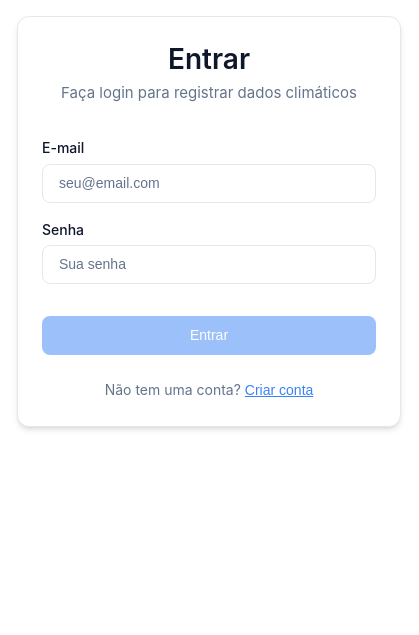
Test: LoginView › should show confirm password mismatch error in register mode
Click the button with class "toggle-link": (279, 390) [245,382,313,398]
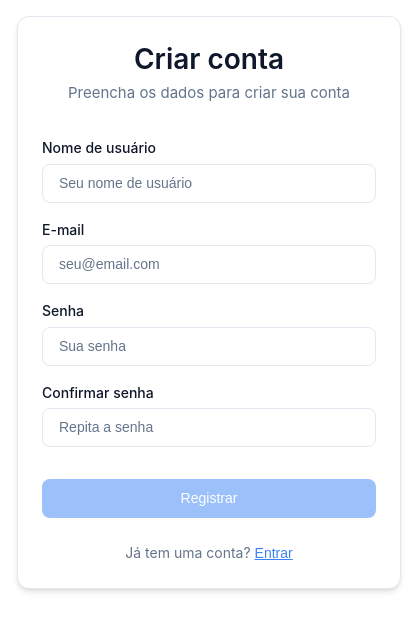
In the password field labelled "Senha": (209, 346) [42,327,376,366], type "123456"
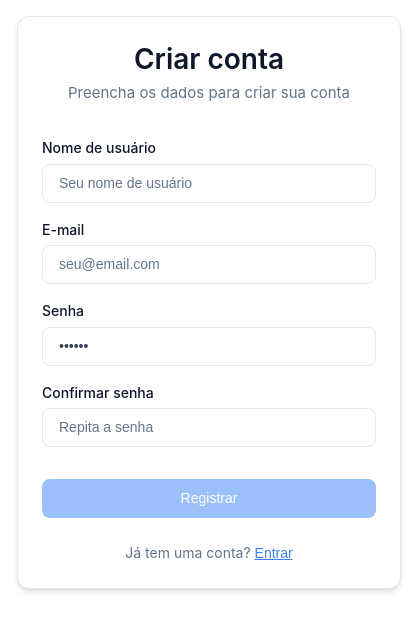
In the password field with id "confirm-password": (209, 428) [42,408,376,447], type "different"
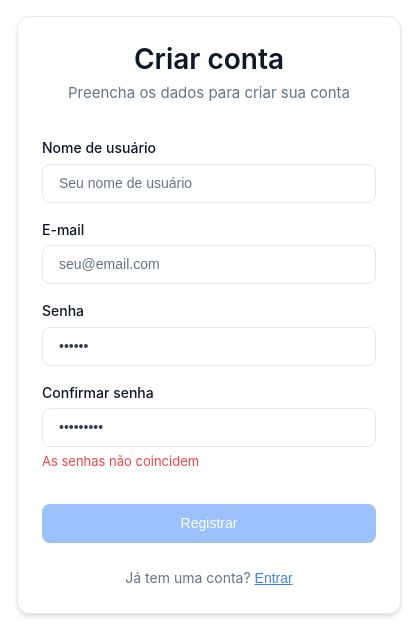
Expected: the text with class "error-text" reads "As senhas não coincidem", [42,453,199,469]
